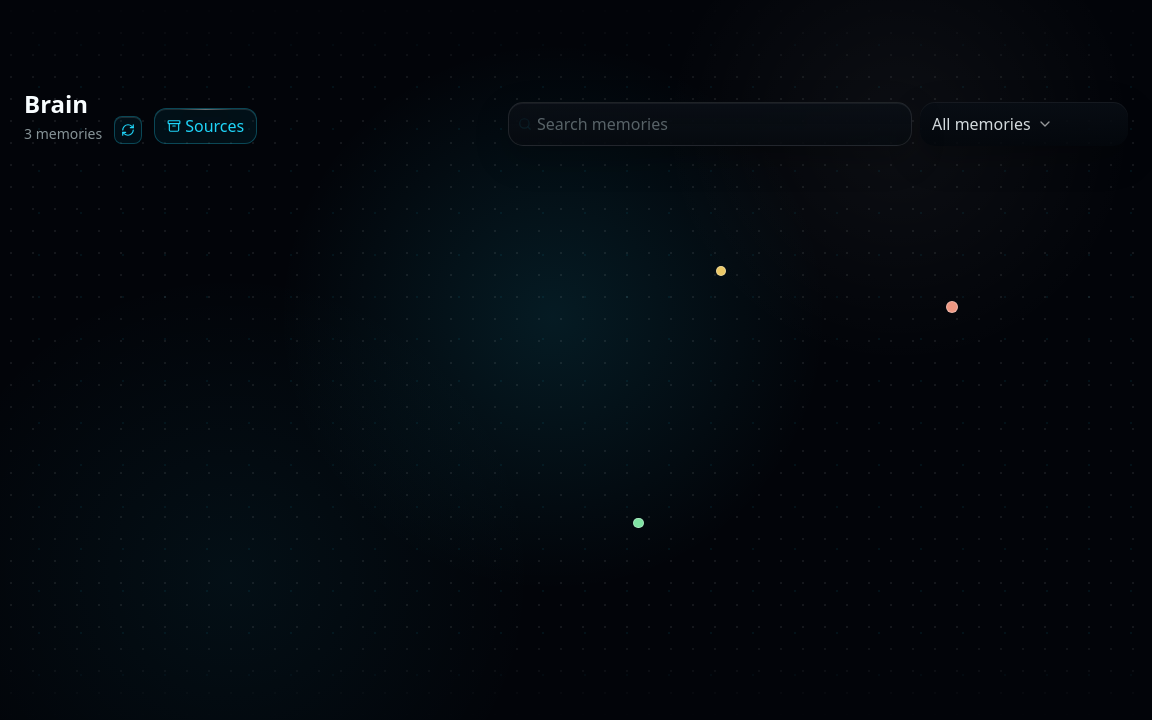
Test: BrainPage › updates the memory count when search and category filters are applied
Check: the text "3 memories" is shown, box top-left (24, 124), bottom-right (102, 144)
Type "privacy" into the search field named "Search brain memories" at (710, 124), box top-left (508, 102), bottom-right (912, 146)
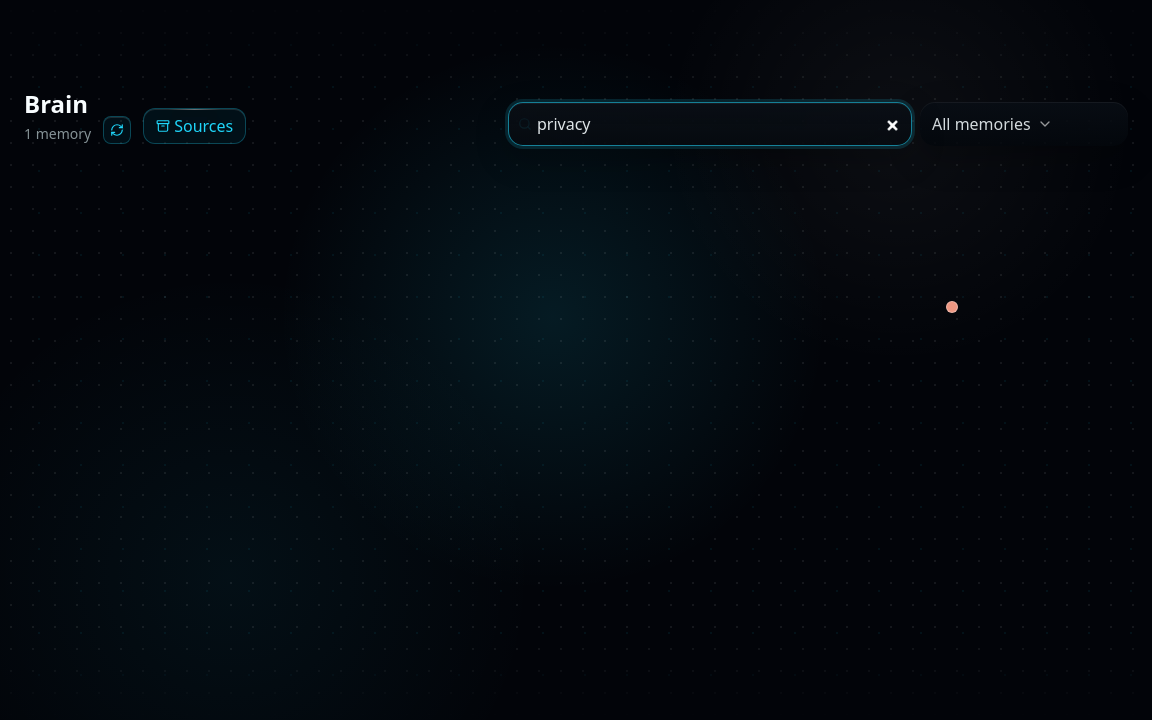
Check: the text "1 memory" is shown, box top-left (24, 124), bottom-right (91, 144)
Replace the text in the search field named "Search brain memories" with "not stored" at (710, 124), box top-left (508, 102), bottom-right (912, 146)
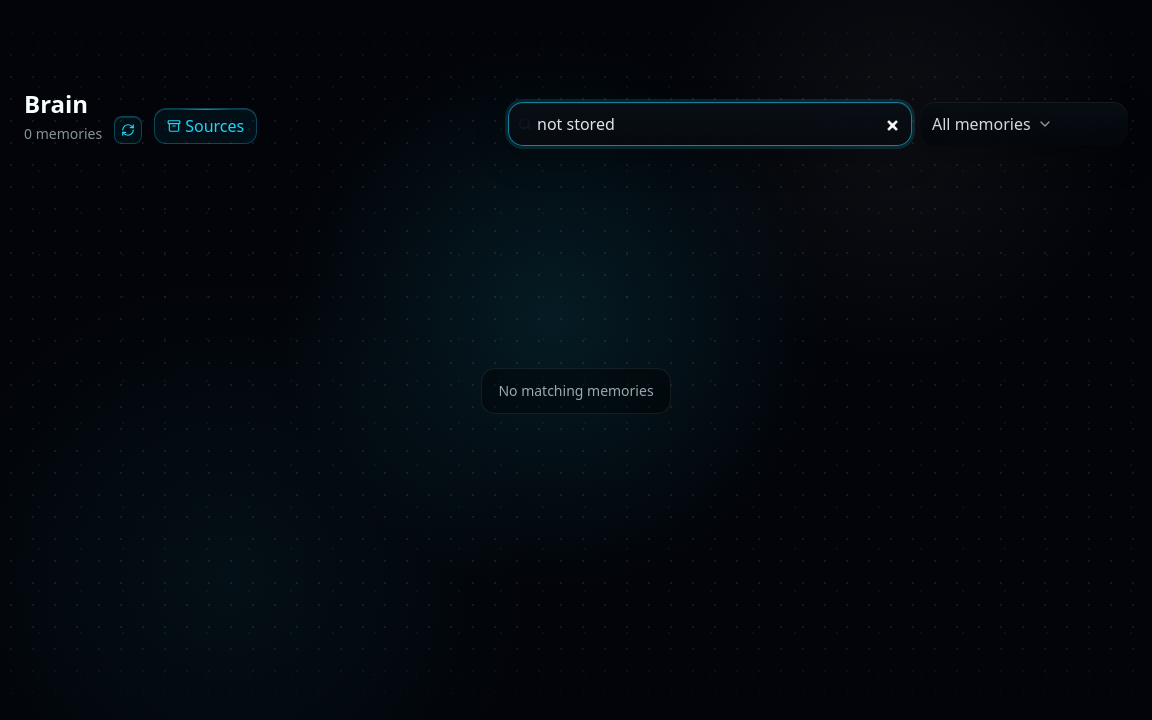
Check: the text "0 memories" is shown, box top-left (24, 124), bottom-right (102, 144)
Clear the search field named "Search brain memories" at (710, 124), box top-left (508, 102), bottom-right (912, 146)
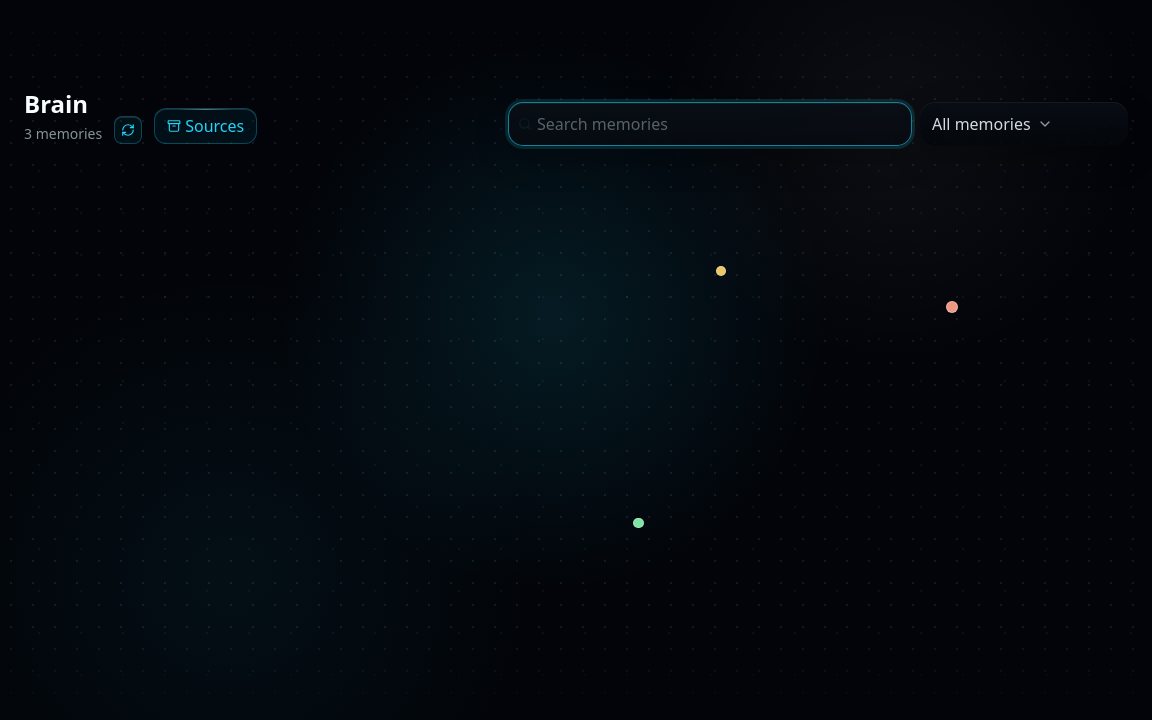
Click the dropdown named "Filter brain memories by category" at (1024, 124), box top-left (920, 102), bottom-right (1128, 146)
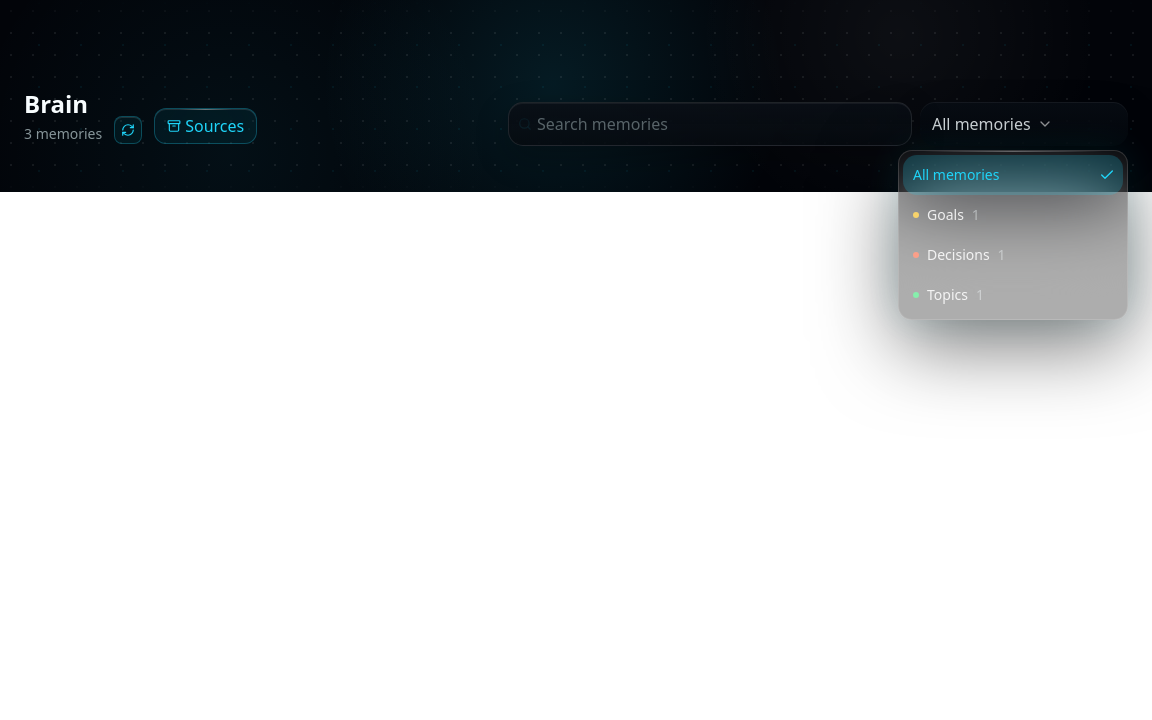
Press Arrowdown Enter
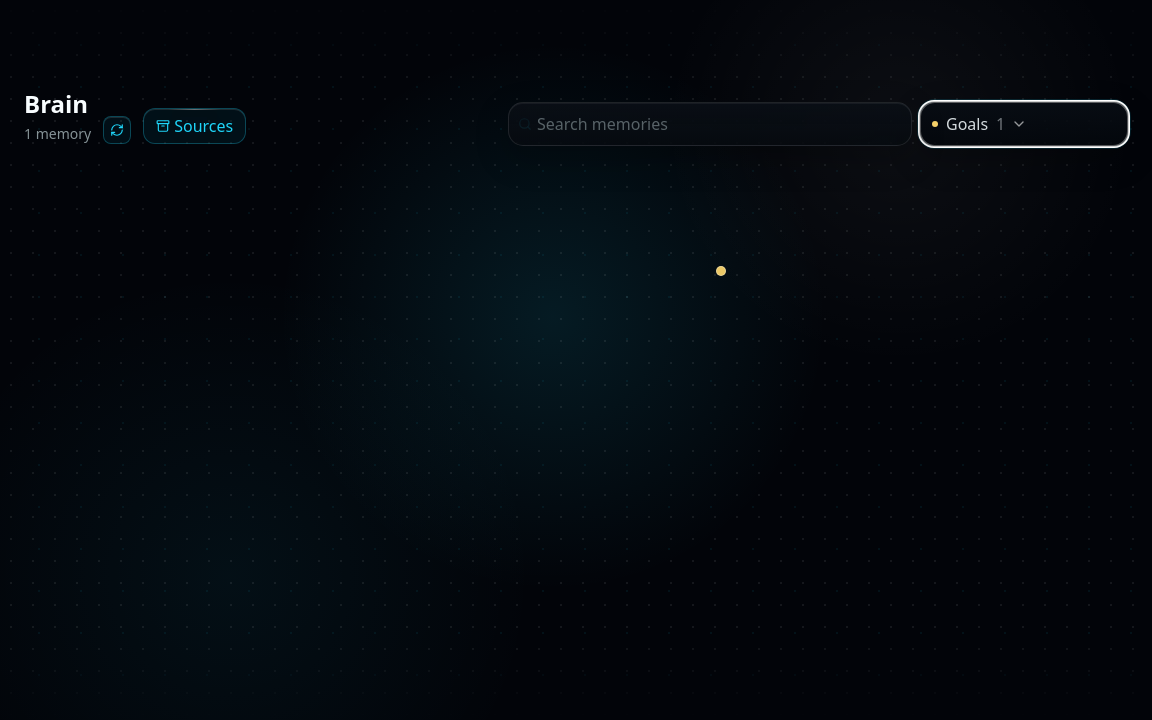
Check: the text "1 memory" is shown, box top-left (24, 124), bottom-right (91, 144)
